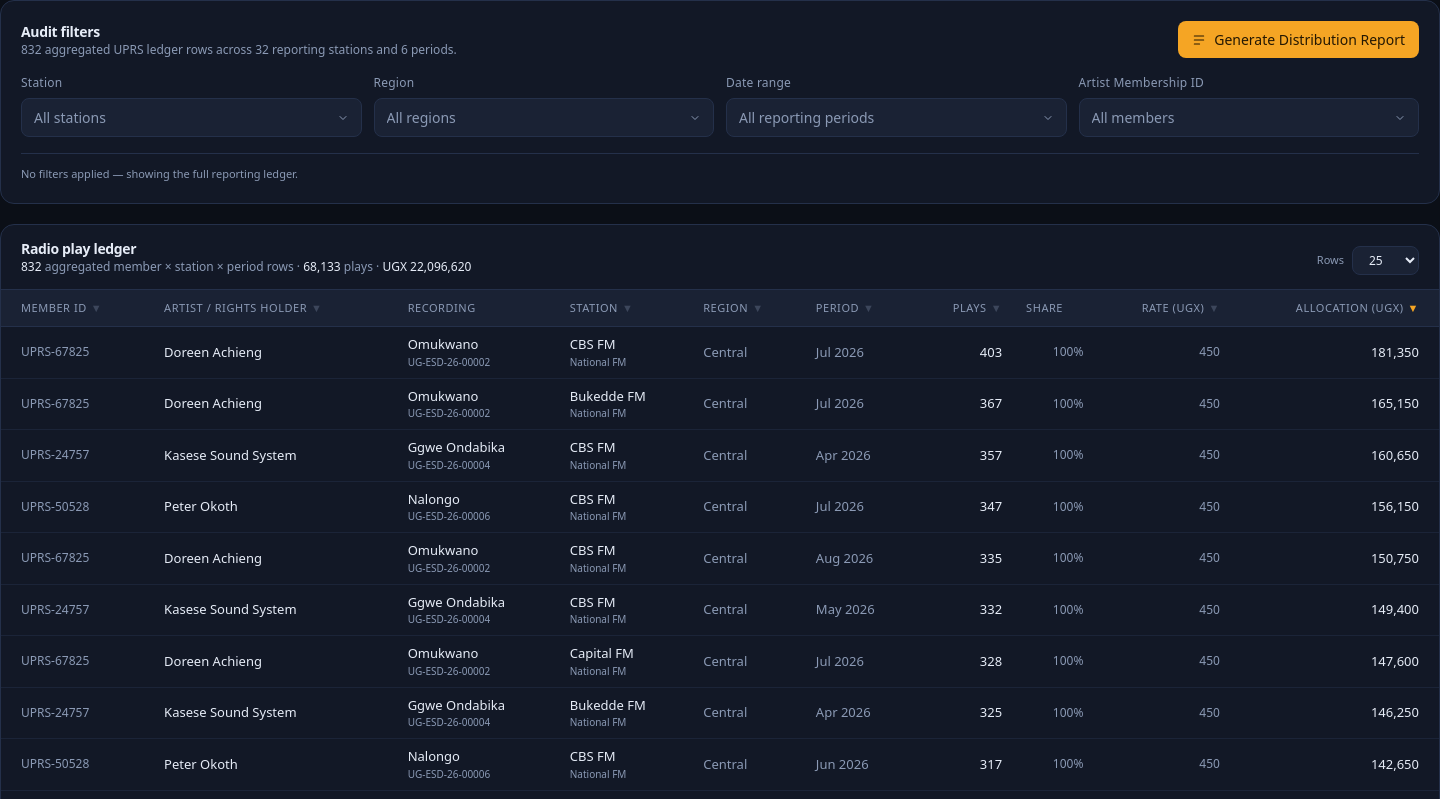
Test: CmoAudit › narrows the ledger when a region filter is applied
The image size is (1440, 799).
Click the button "All regions".
click(421, 118)  # box [374, 98, 714, 137]
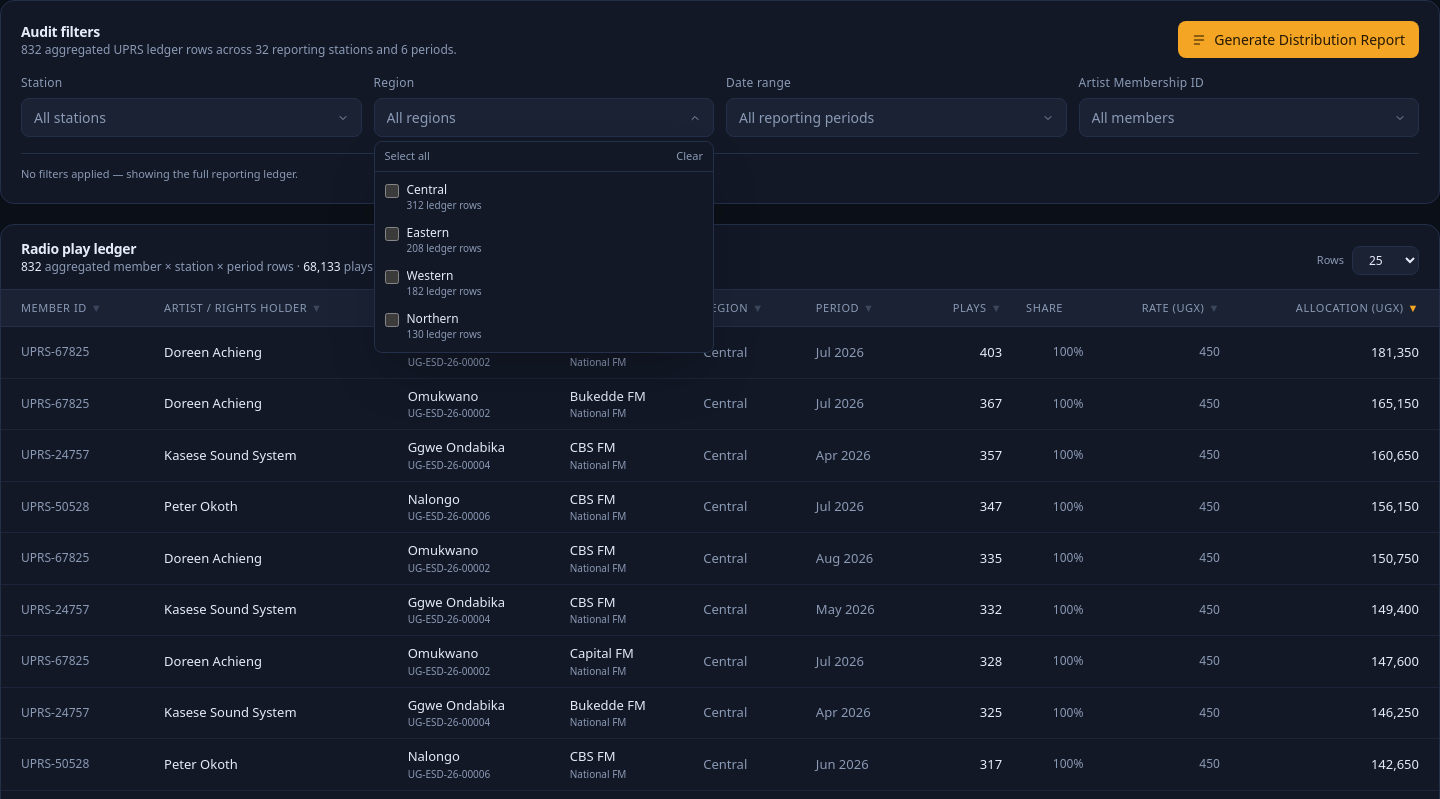
Click the checkbox labelled "Northern 130 ledger rows".
click(392, 320)  # box [384, 312, 398, 326]
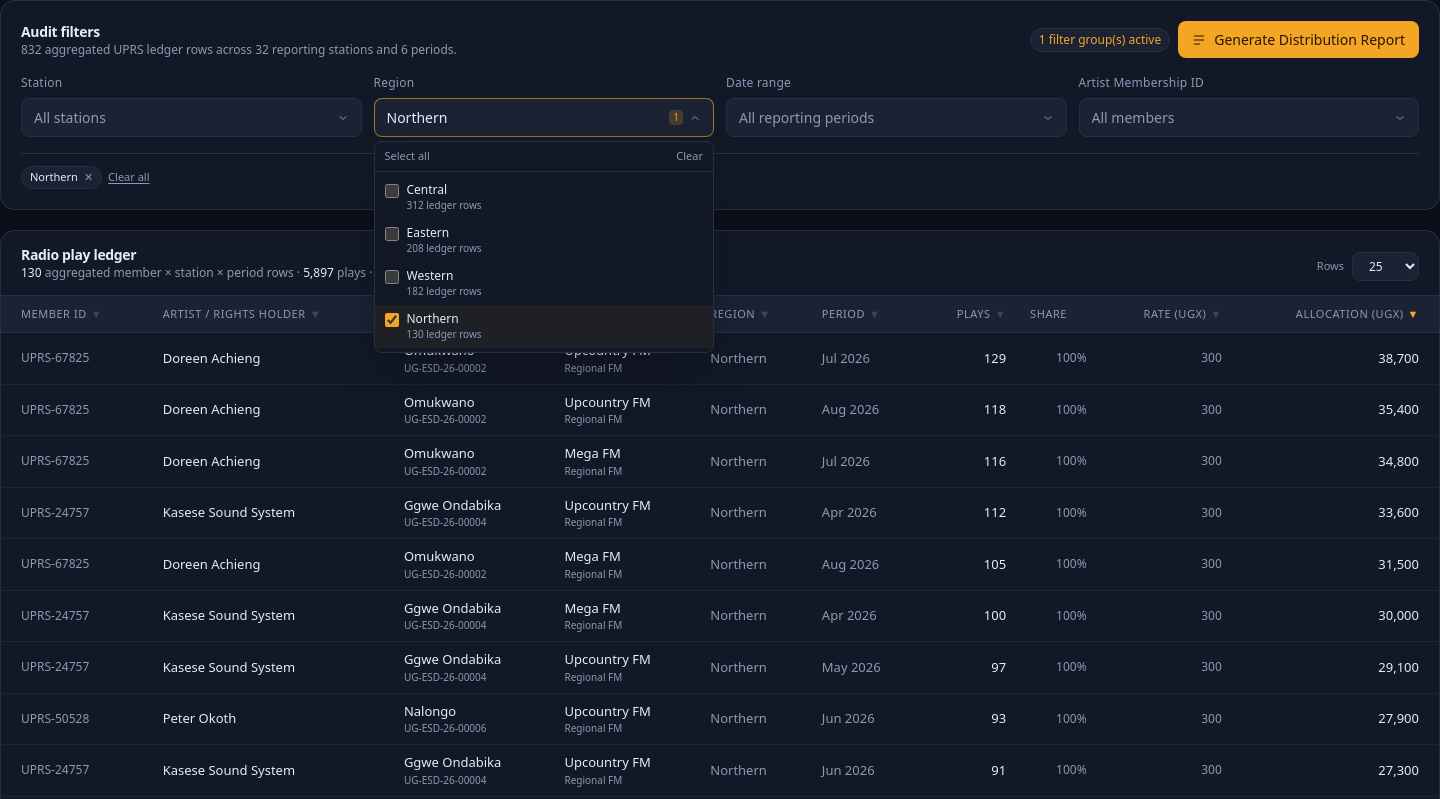
Now the button titled "Remove this filter" shows "Northern", box [21, 166, 102, 188]
